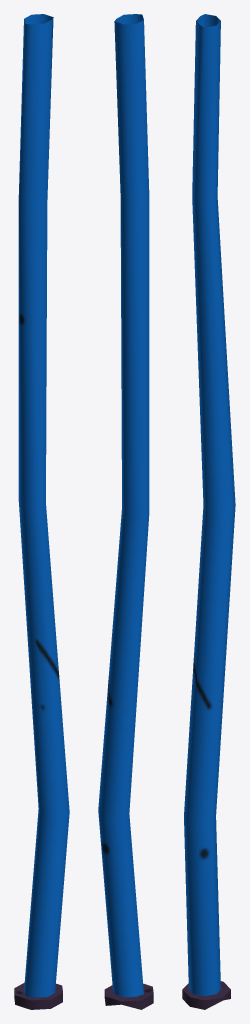
File: Tap_Full_Pipe_.fbx
3 renders of one model, left to right at view 1: azimuth 30°, elevation 25°; view 2: azimuth 210°, elevation 25°; view 3: azimuth 270°, elevation 25°, orthographic.
Visible parts, largest first — view 1: ful pipe; view 2: ful pipe; view 3: ful pipe.
Part boxes in pixels (<box>): ful pipe: <box>14,14,69,1009</box>; ful pipe: <box>98,14,153,1009</box>; ful pipe: <box>182,14,235,1009</box>.
Bounding box in the file's own units: 0.1171 × 2.26 × 0.1113.
